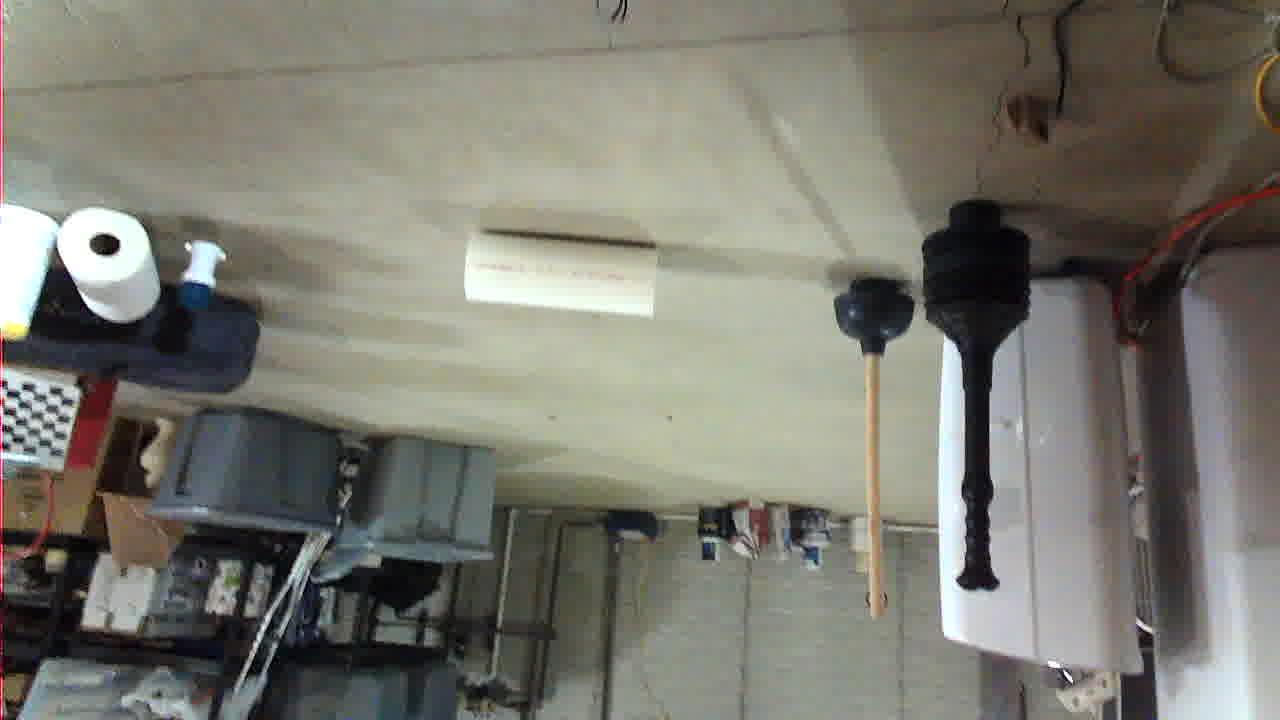coral: (624, 399, 814, 482)
